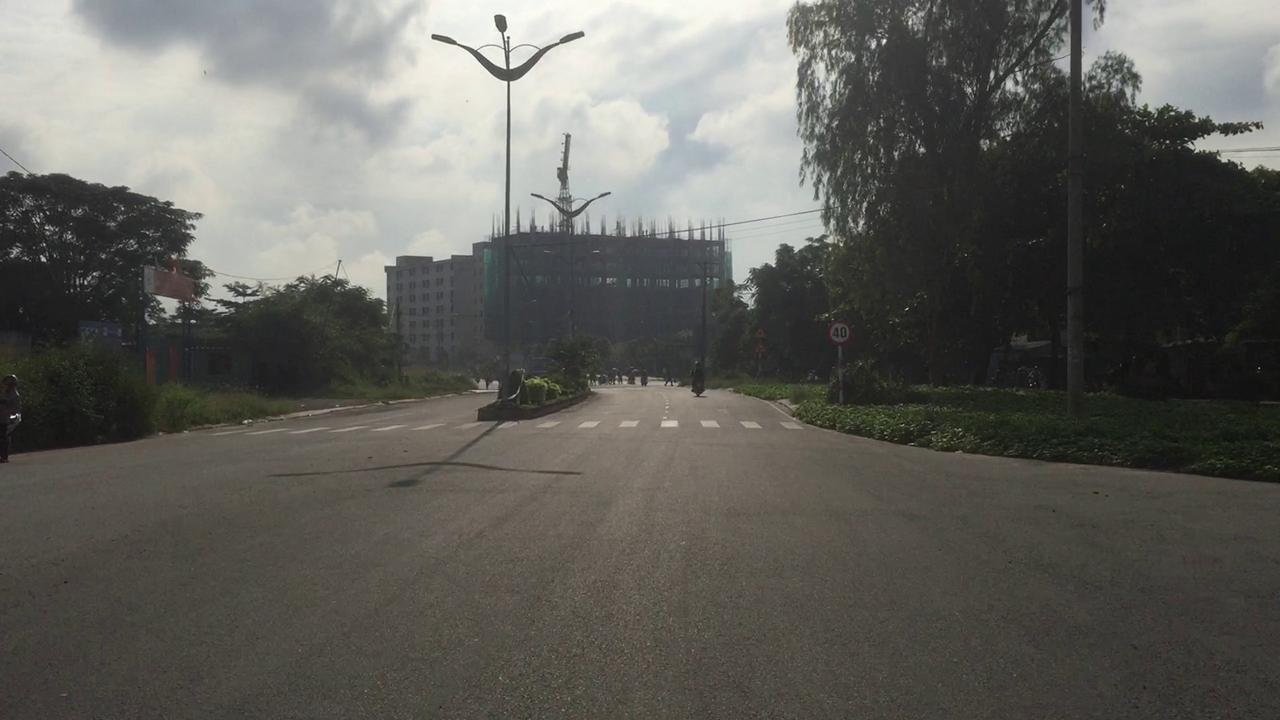P.131a: (826, 320, 852, 346)
